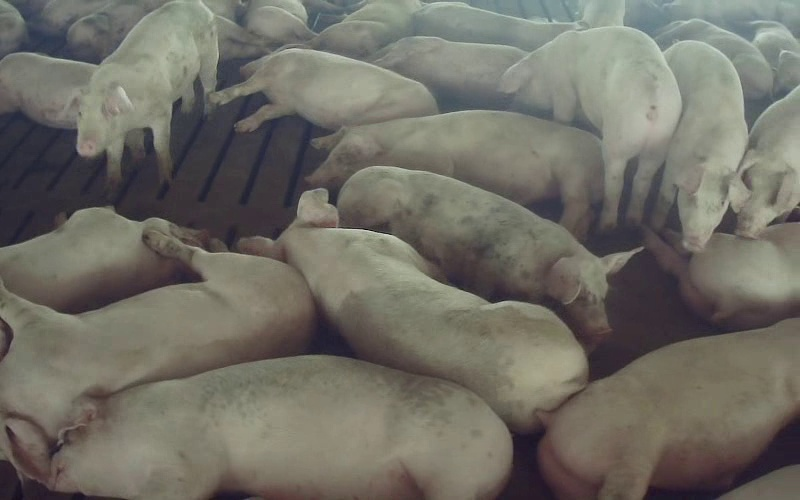pig: (239, 189, 586, 431), (0, 230, 315, 484), (52, 356, 511, 499), (337, 166, 636, 344), (538, 319, 799, 499), (307, 110, 603, 238), (501, 26, 681, 230), (59, 0, 218, 189), (0, 207, 208, 312), (651, 40, 748, 251), (209, 48, 437, 131), (644, 223, 799, 329), (373, 36, 526, 110), (736, 85, 799, 237), (413, 2, 582, 51)
